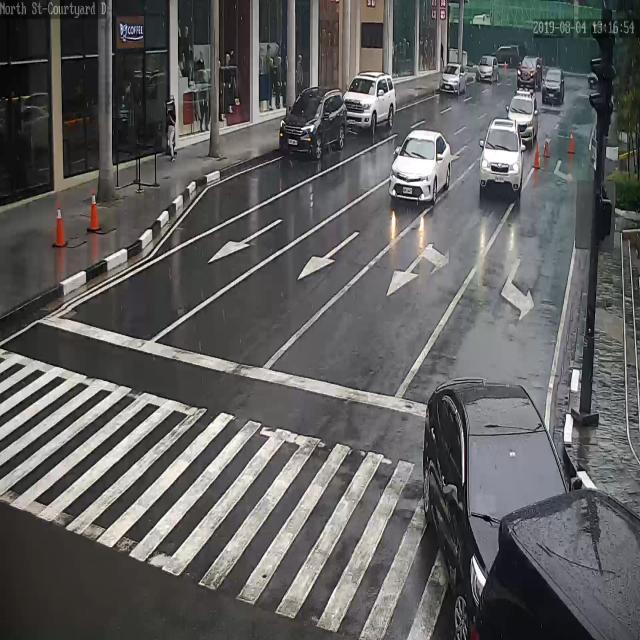car: (422, 377, 577, 640), (279, 86, 348, 158), (389, 130, 451, 200), (479, 118, 524, 199), (342, 72, 397, 136), (506, 91, 540, 145), (440, 62, 472, 93), (516, 55, 542, 89), (541, 67, 565, 103), (491, 44, 521, 68), (476, 55, 498, 83)
van: (471, 488, 640, 640)
